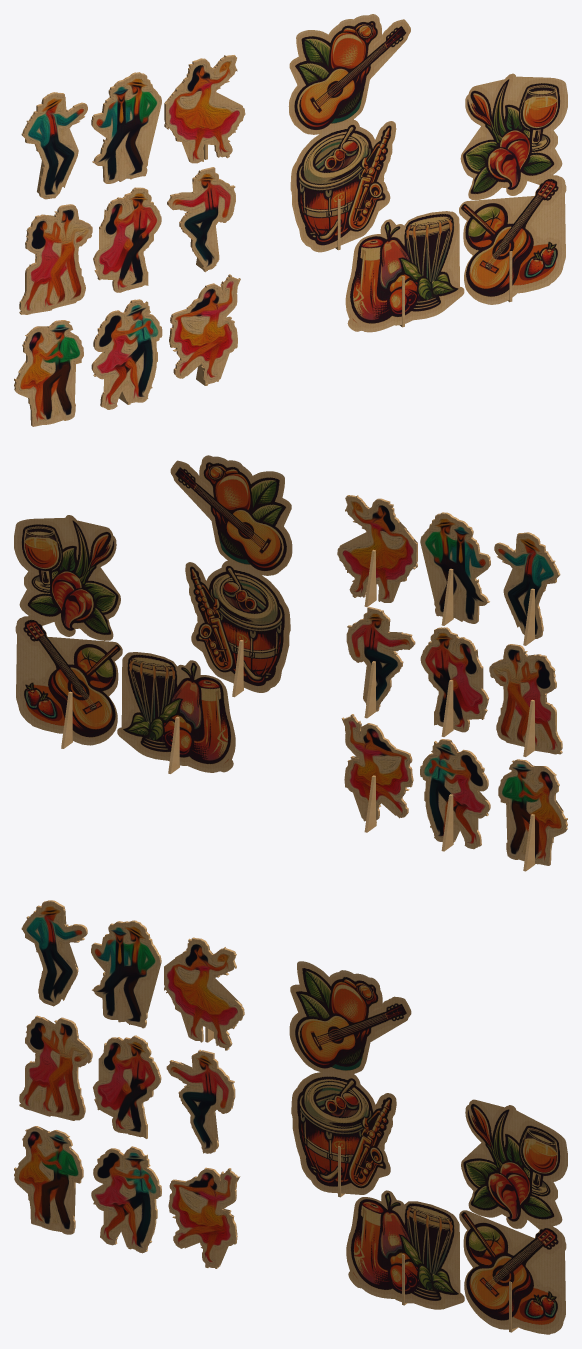
Rendered from bailarines de salsa.fbx.
3 renders of one model, top to bottom at view 1: azimuth 30°, elevation 25°; view 2: azimuth 150°, elevation 25°; view 3: azimuth 330°, elevation 25°, orthographic.
Parts seen in each view (by area): view 1: path1.010, path1.009, path1, path1.003, path1.006, path1.008, path1.002, path1.007, path1.028, path1.005, path1.001, path1.004; view 2: path1.010, path1.009, path1, path1.003, path1.006, path1.008, path1.002, path1.007, path1.028, path1.005, path1.001, path1.004; view 3: path1.010, path1.009, path1, path1.003, path1.006, path1.008, path1.002, path1.007, path1.028, path1.005, path1.001, path1.004.
Boxes of the visible parts, box(x1,y1,x2,y2) form: path1.010: box(459, 73, 567, 304); path1.009: box(288, 14, 410, 252); path1: box(345, 211, 464, 332); path1.003: box(164, 55, 245, 163); path1.006: box(19, 204, 92, 314); path1.008: box(91, 299, 162, 409); path1.002: box(91, 72, 161, 183); path1.007: box(14, 320, 83, 426); path1.028: box(169, 274, 240, 385); path1.005: box(93, 187, 161, 292); path1.001: box(21, 92, 87, 199); path1.004: box(167, 167, 235, 272); path1.010: box(14, 515, 122, 748); path1.009: box(170, 455, 292, 697); path1: box(117, 652, 235, 773); path1.003: box(337, 495, 417, 606); path1.006: box(489, 644, 562, 756); path1.008: box(420, 739, 490, 851); path1.002: box(420, 512, 490, 625); path1.007: box(498, 759, 567, 871); path1.028: box(341, 714, 413, 832); path1.005: box(420, 627, 489, 736); path1.001: box(494, 532, 560, 645); path1.004: box(346, 607, 415, 718); path1.010: box(459, 1099, 567, 1334); path1.009: box(289, 961, 411, 1197); path1: box(346, 1190, 464, 1309); path1.003: box(164, 937, 244, 1050); path1.006: box(19, 1015, 92, 1120); path1.008: box(91, 1146, 161, 1253); path1.002: box(91, 920, 161, 1028); path1.007: box(14, 1126, 83, 1234); path1.028: box(168, 1167, 240, 1268); path1.005: box(93, 1035, 161, 1138); path1.001: box(21, 900, 87, 1006); path1.004: box(166, 1049, 235, 1153).
Bounding box in the file's own units: 0.4212 × 0.2412 × 0.0138.
